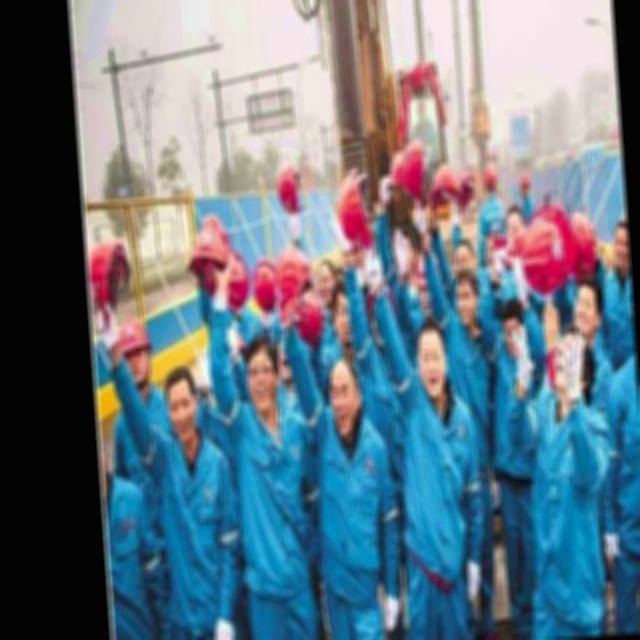Sin_Casco_Mascarrilla: (325, 353, 365, 437), (245, 330, 282, 413), (417, 323, 450, 400)
